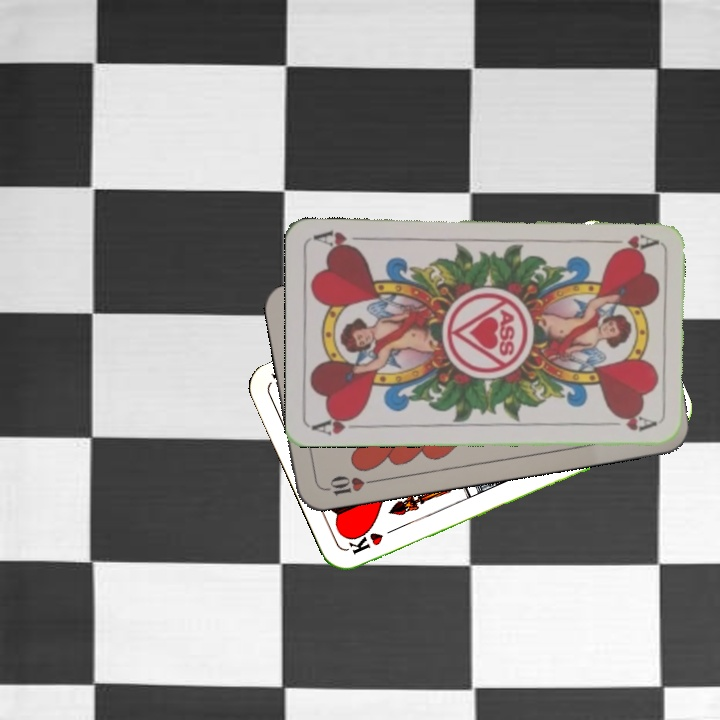H10: (319, 471, 378, 499)
HA: (310, 411, 369, 438), (600, 230, 659, 252)
HK: (344, 522, 402, 557)
